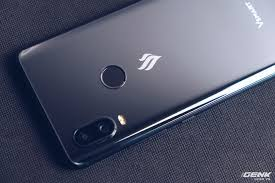vsmart: (18, 1, 275, 168)
